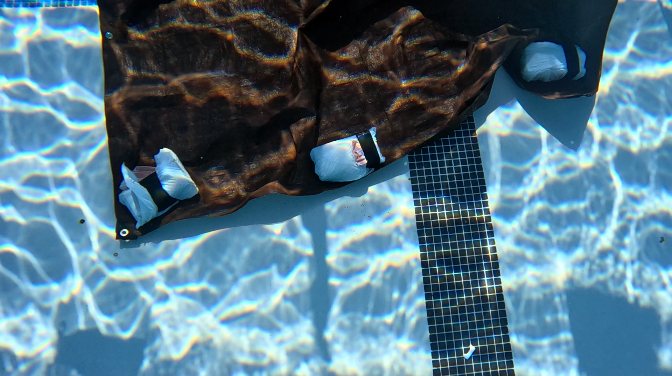sandbag: (95, 0, 617, 240)
